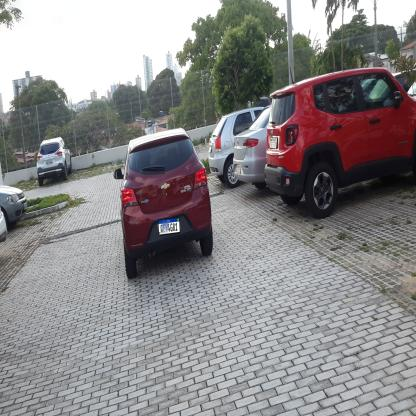PlacaM: (158, 216, 180, 235)
